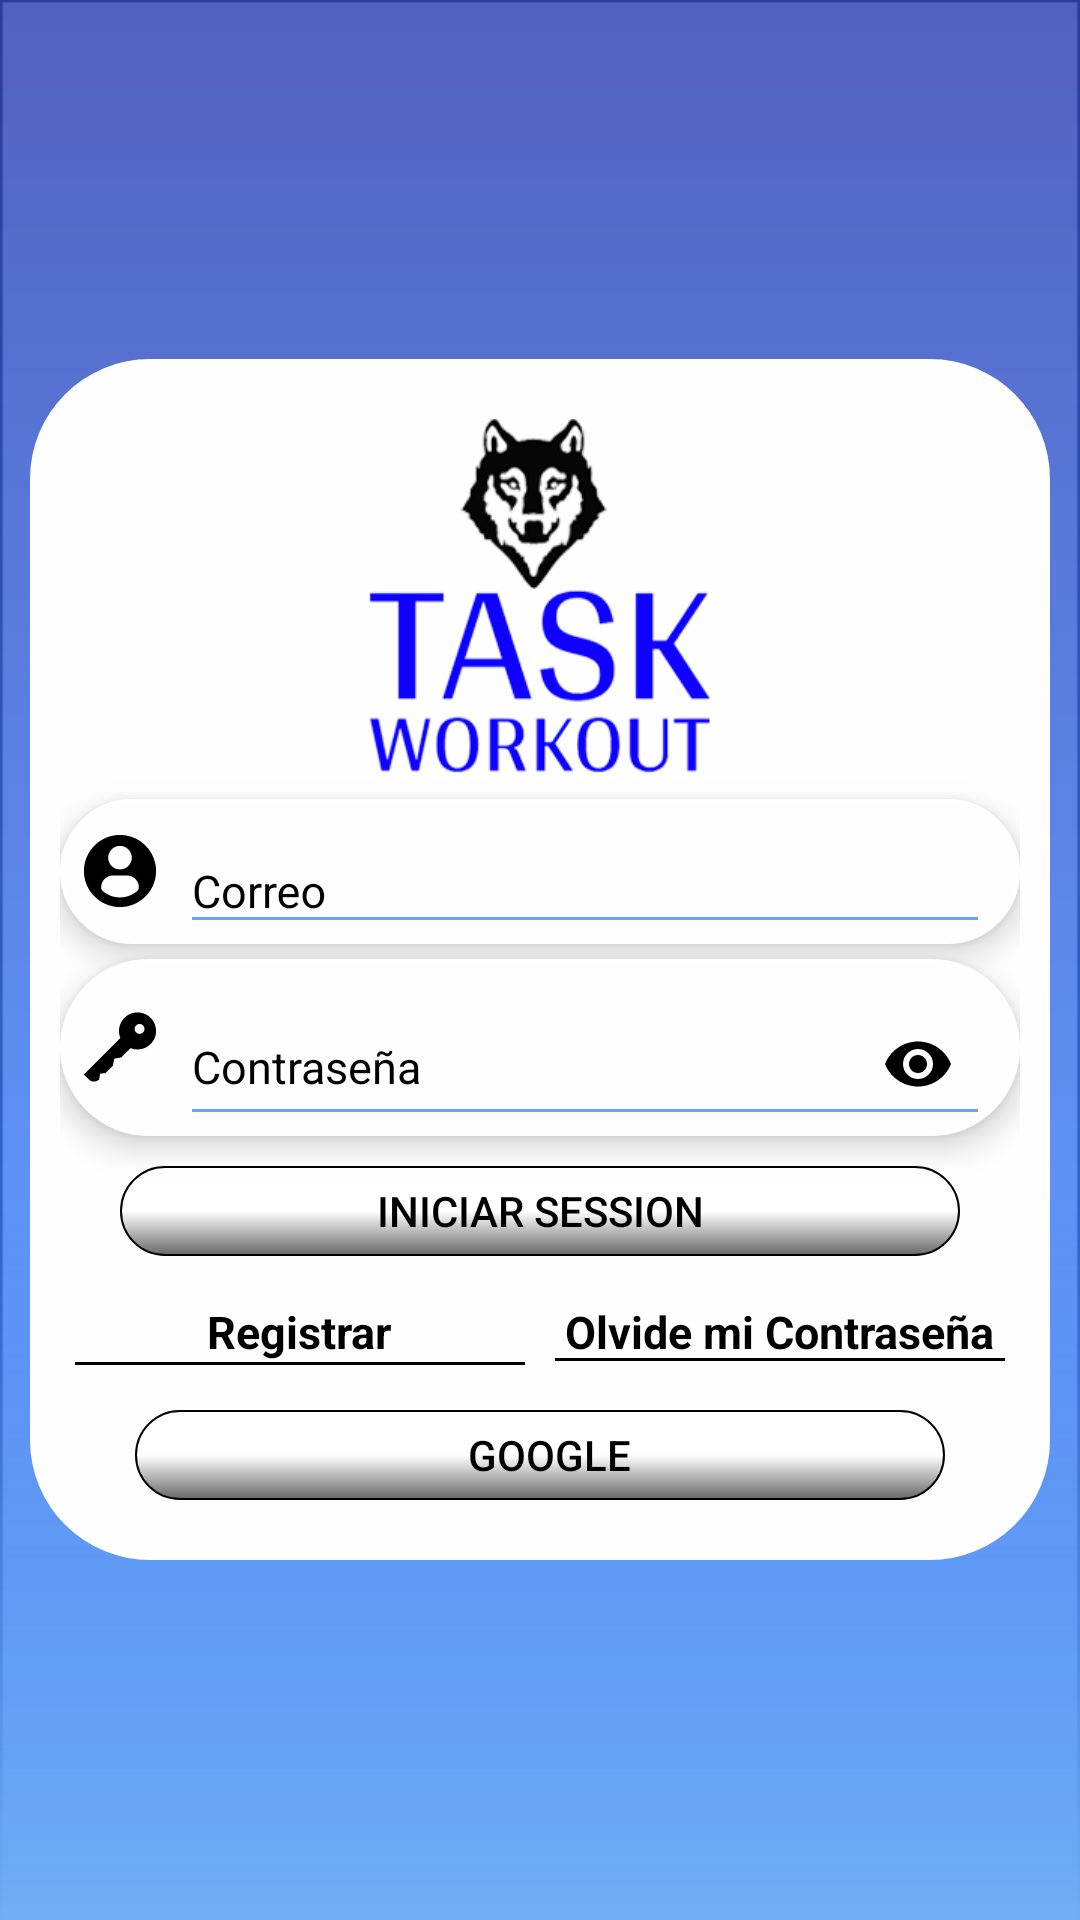

Icon bounding boxes for this 1080px x 1920px phone screenshot, format (left=x1, top=y1, right=x2, bottom=y2):
key: (left=84, top=1012, right=156, bottom=1082)
profile user: (left=84, top=835, right=156, bottom=907)
